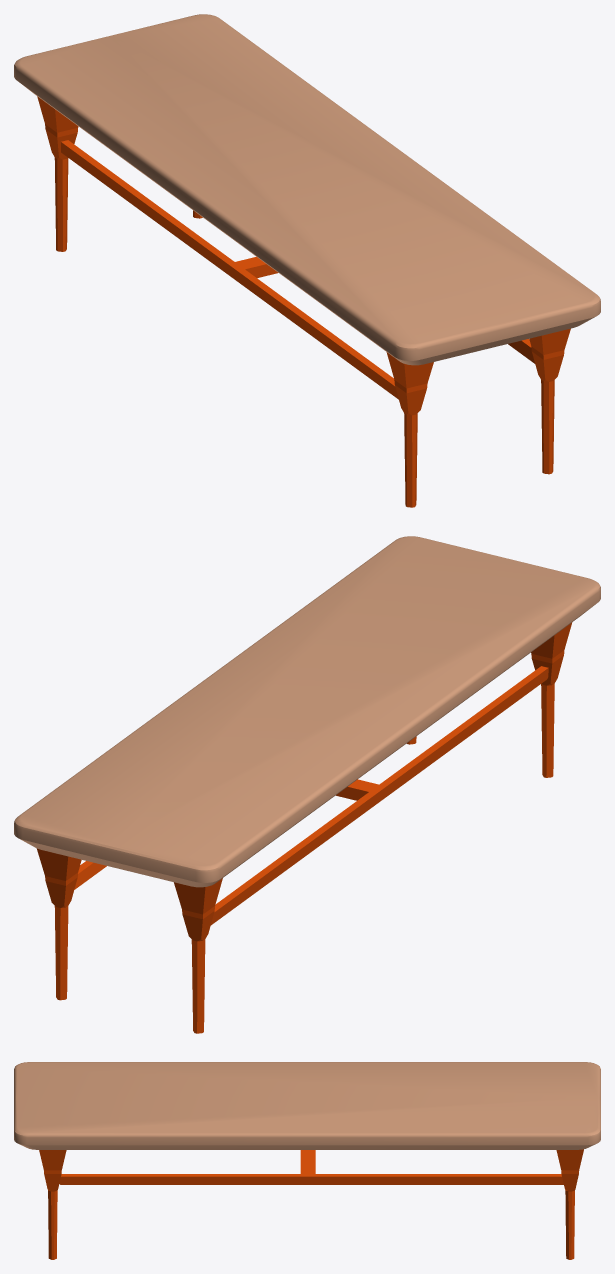
File: CouchRunner_v1.fbx
3 renders of one model, top to bottom at view 1: azimuth 30°, elevation 25°; view 2: azimuth 150°, elevation 25°; view 3: azimuth 270°, elevation 25°, orthographic. The views are drawn at different scales.
Visible parts, largest first — view 1: Couch runner; view 2: Couch runner; view 3: Couch runner.
Part boxes in pixels (x1,y1,x2,y2): Couch runner: (14, 14, 600, 507); Couch runner: (14, 536, 600, 1033); Couch runner: (14, 1062, 600, 1259).
Bounding box in the file's own units: 82.6 × 71.11 × 279.
